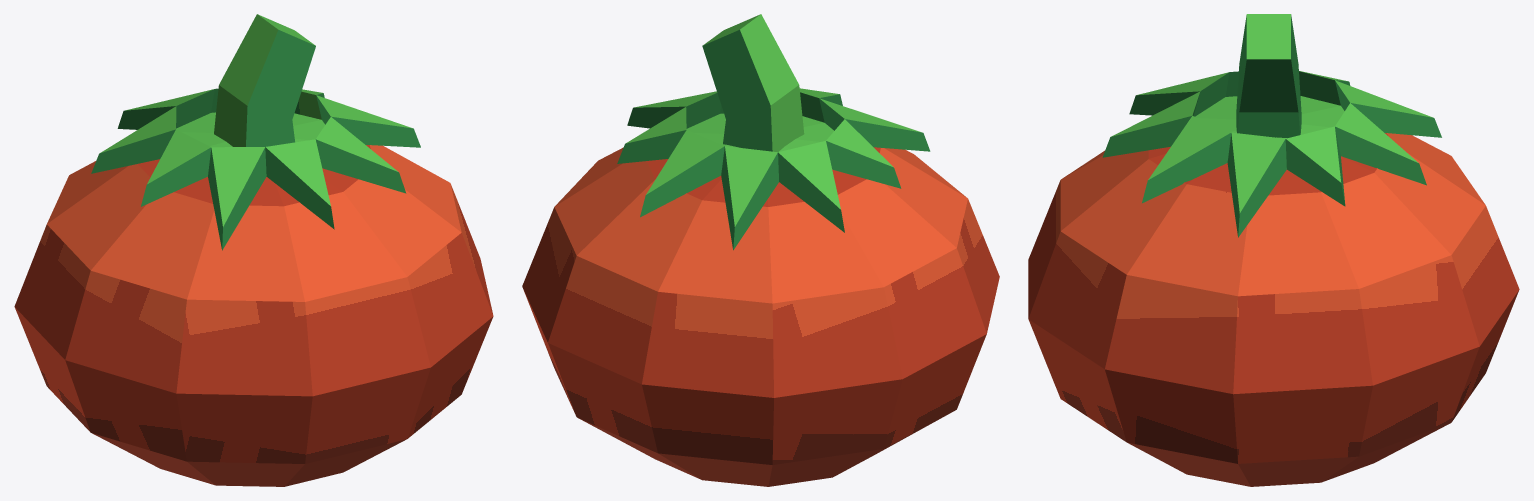
The model's file is tomato.fbx.
3 views of the same model, side by side, from view 1: azimuth 30°, elevation 25°; view 2: azimuth 150°, elevation 25°; view 3: azimuth 270°, elevation 25° (orthographic). The views are drawn at different scales.
Parts seen in each view (by area): view 1: sphere; view 2: sphere; view 3: sphere.
Part boxes in pixels (<box>): sphere: <box>14,14,493,486</box>; sphere: <box>522,14,999,486</box>; sphere: <box>1028,14,1519,486</box>.
Size of the model in its own units: 83.82 by 83.71 by 82.97.
Materials: 1 (1 with a texture image).
